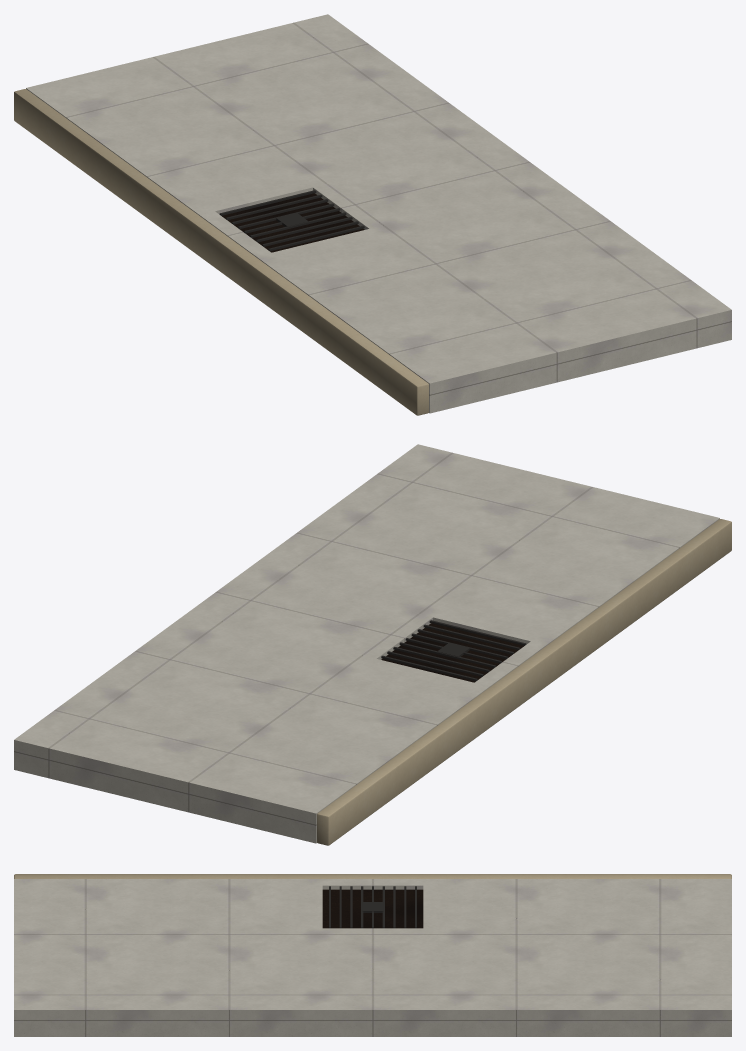
Rendered from sidewalk_tree_well.glb.
3 renders of one model, top to bottom at view 1: azimuth 30°, elevation 25°; view 2: azimuth 150°, elevation 25°; view 3: azimuth 270°, elevation 25°, orthographic. The views are drawn at different scales.
Parts seen in each view (by area): view 1: body; view 2: body; view 3: body.
Boxes of the visible parts, left/top/right/bottom form: body: left=14, top=14, right=731, bottom=415; body: left=14, top=444, right=731, bottom=845; body: left=14, top=874, right=731, bottom=1036.
Bounding box in the file's own units: 4.5 × 0.417 × 10.
4 materials, 3 textured.
